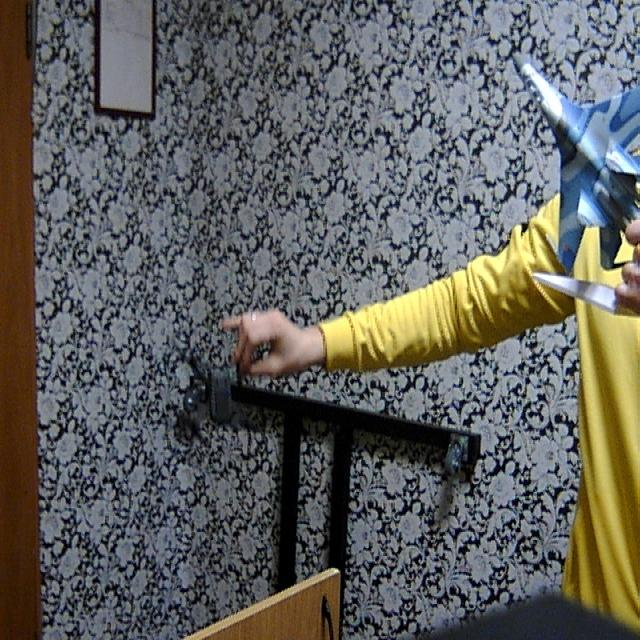drone: (163, 302, 276, 465)
